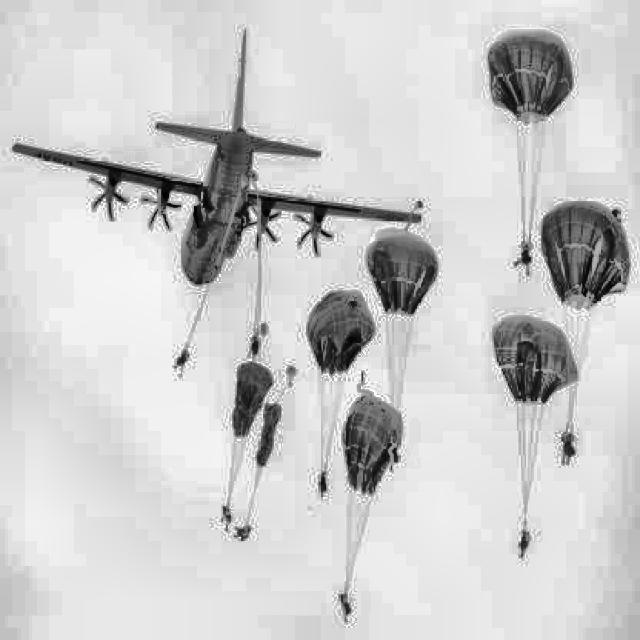C130: (11, 28, 422, 286)
